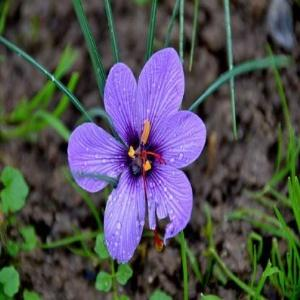Saffron: (74, 48, 203, 264)
